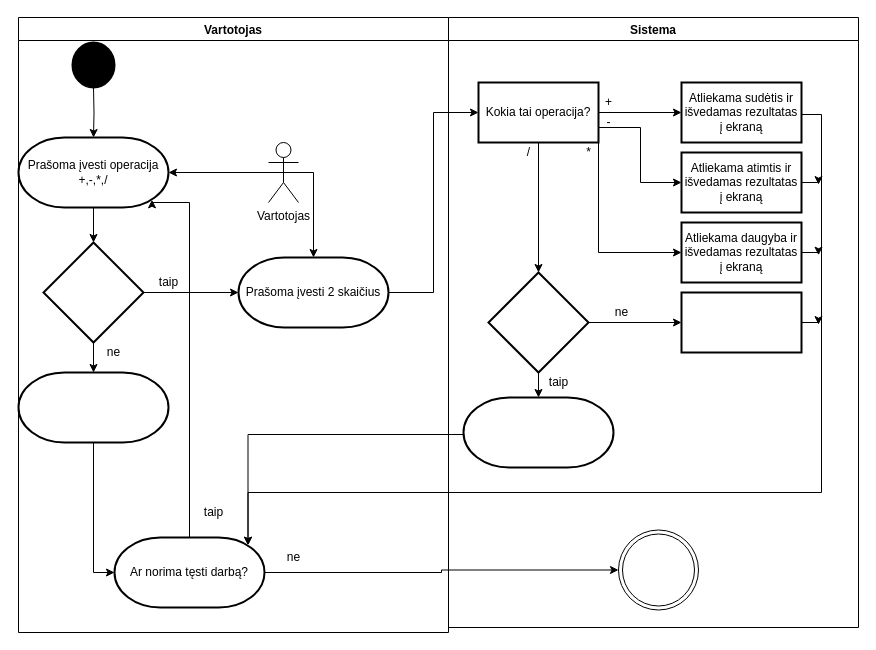
This 876x650 diagram has some shape labels left out. Here are the shapes that lost their labels. From the top down, the centre of each, then its label:
At [93,292]: "Ar tai egzistuojanti operacija?".
At [538,322]: "Ar 2 skaičius lygus 0?".
At [741,322]: "Atliekama dalyba ir išvedamas rezultatas į ekraną".
At [93,407]: "Išvedama kad operacija negalima".
At [538,432]: "Išvedama kad dalyba iš 0 negalima".
